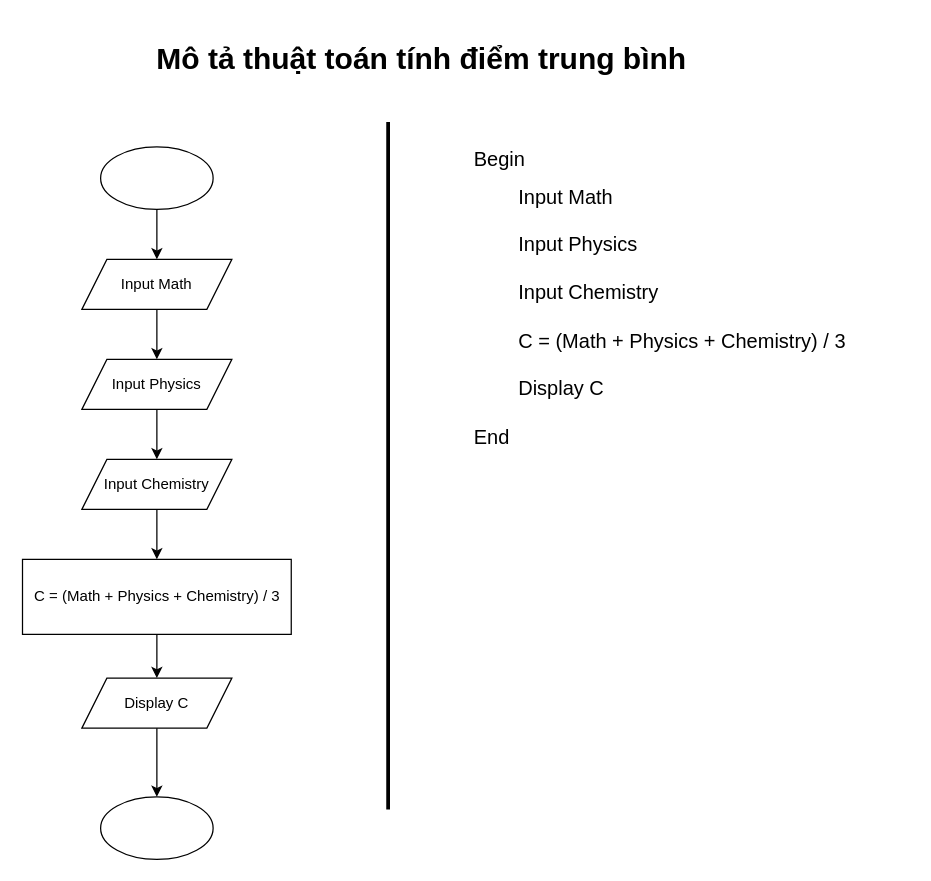
Image size: 931x881. Some labels were removed from this diagram. Each missing label, with the centre of its shape:
"Begin" belongs at (x=156, y=177).
"End" belongs at (x=156, y=827).
